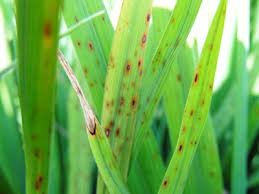Bercak Coklat: (121, 58, 134, 75), (127, 94, 139, 109), (112, 124, 123, 138), (161, 178, 172, 190), (176, 140, 185, 154), (135, 54, 143, 69), (144, 12, 153, 24), (192, 72, 200, 85)
